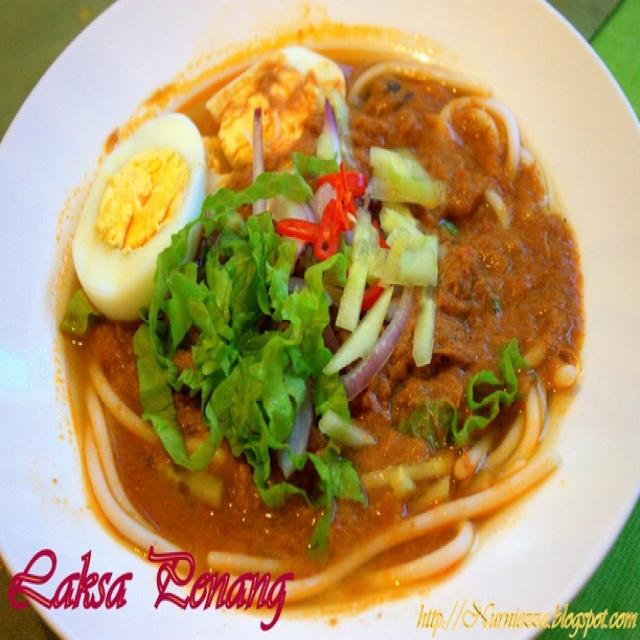面条主食: (51, 16, 592, 615)
